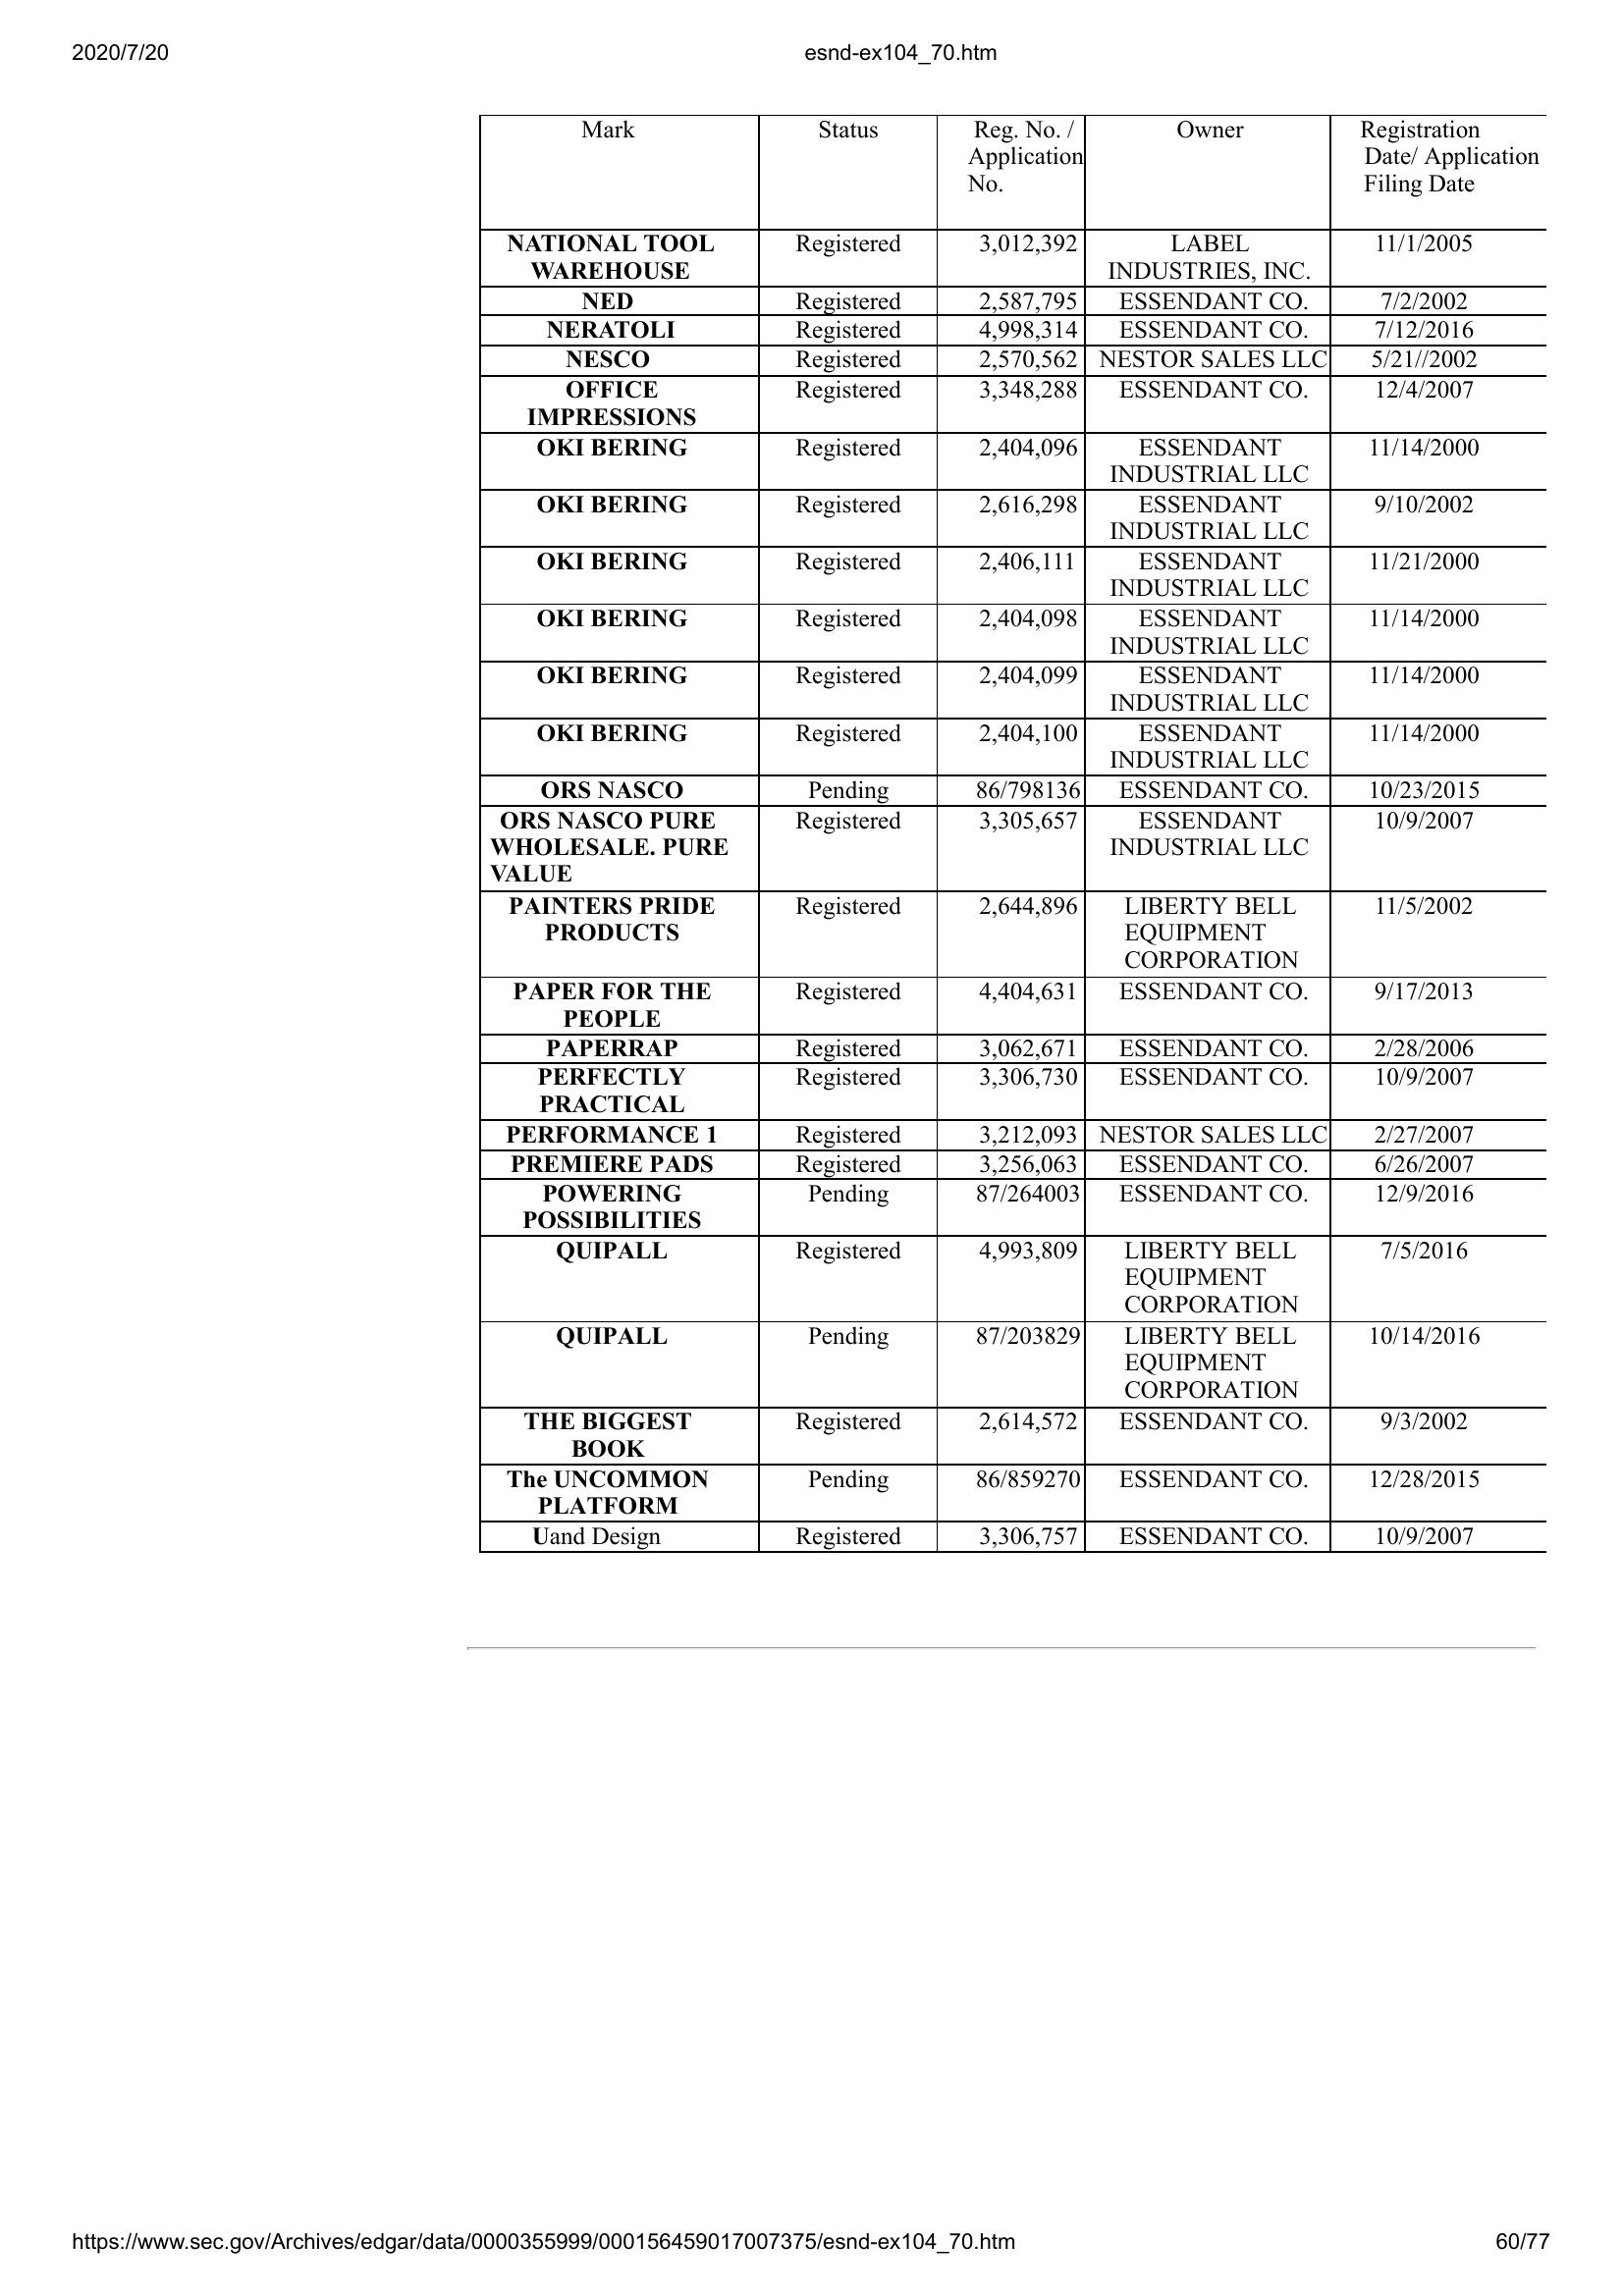table: (465, 104, 1558, 1562)
